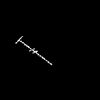treble_crochet: (16, 38, 51, 64)
